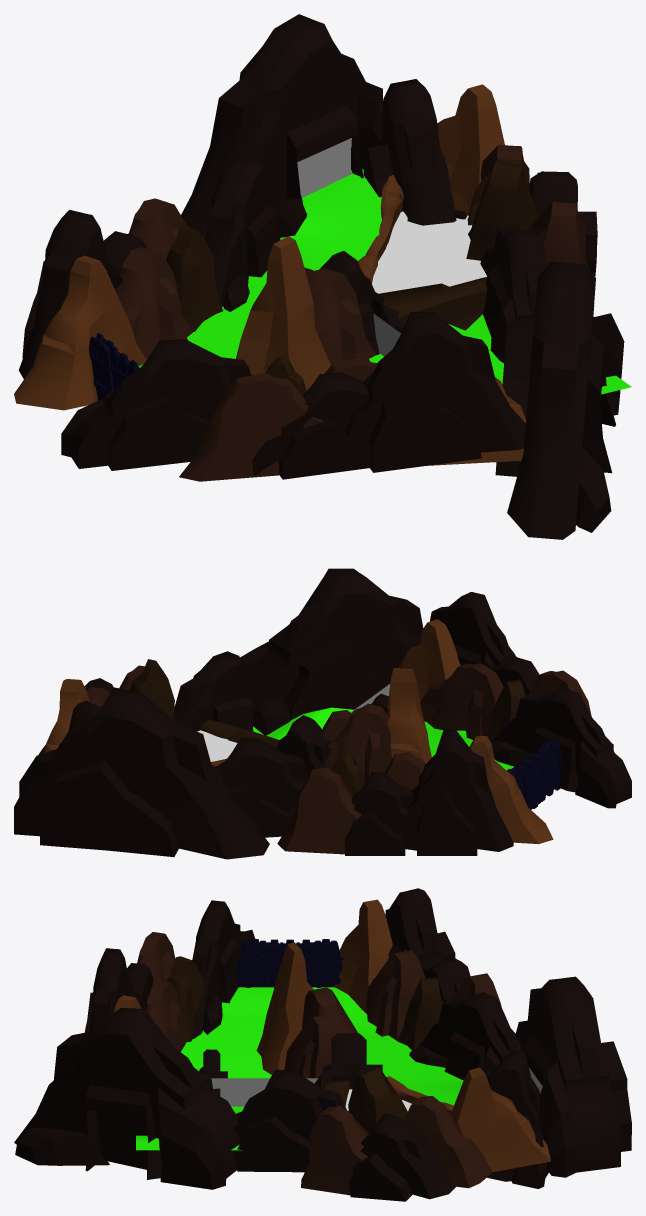
Rendered from Scenario.fbx.
The picture shows the model from 3 angles, top to bottom: view 1: azimuth 30°, elevation 25°; view 2: azimuth 150°, elevation 25°; view 3: azimuth 270°, elevation 25°; orthographic projection. The views are drawn at different scales.
Visible parts, largest first — view 1: Mountain_5_02, Mountain_5_01, Mountain_4_08, Mountain_4_02, Mountain_1_03, Ground, Mountain_4_04, Mountain_4_10, Mountain_3_02, Mountain_1_04, Mountain_4_11, Water (+19 smaller); view 2: Mountain_5_01, Mountain_5_02, Mountain_4_06, Mountain_4_02, Mountain_4_03, Mountain_4_04, Mountain_3_08, Mountain_4_07, Mountain_3_03, Mountain_4_08, Mountain_3_06, Mountain_1_03 (+16 smaller); view 3: Mountain_5_02, Mountain_5_01, Ground, Mountain_4_03, Mountain_4_09, Mountain_4_04, Mountain_1_01, Mountain_4_02, Mountain_3_01, Mountain_1_04, Base, Mountain_3_04 (+19 smaller).
Boxes of the visible parts, x1,y1,x2,y2 form: Mountain_5_02: (495,261,624,539); Mountain_5_01: (181,14,383,235); Mountain_4_08: (344,312,525,472); Mountain_4_02: (61,339,251,470); Mountain_1_03: (14,255,146,410); Ground: (138,169,631,394); Mountain_4_04: (202,155,306,311); Mountain_4_10: (362,79,467,225); Mountain_3_02: (179,373,335,481); Mountain_1_04: (236,236,331,390); Mountain_4_11: (252,372,369,479); Water: (372,211,486,293); Mountain_5_01: (14,687,269,859); Mountain_5_02: (240,568,423,719); Mountain_4_06: (403,728,513,855); Mountain_4_02: (490,688,631,808); Mountain_4_03: (174,651,291,735); Mountain_4_04: (215,738,308,837); Mountain_3_08: (277,767,361,854); Mountain_4_07: (345,771,416,855); Mountain_3_03: (420,663,503,739); Mountain_4_08: (430,592,516,669); Mountain_3_06: (325,703,391,782); Mountain_1_03: (469,736,553,844); Mountain_5_02: (14,1008,240,1189); Mountain_5_01: (515,976,631,1177); Ground: (136,987,463,1150); Mountain_4_03: (233,1069,348,1172); Mountain_4_09: (348,1113,456,1201); Mountain_4_04: (409,992,521,1080); Mountain_1_01: (451,1067,550,1171); Mountain_4_02: (192,900,255,1038); Mountain_3_01: (301,1106,368,1195); Mountain_1_04: (256,942,313,1074); Base: (235,939,343,987); Mountain_3_04: (404,1096,492,1188).
Size of what is drawn, in the model's own units: 2423 by 901 by 2597.
